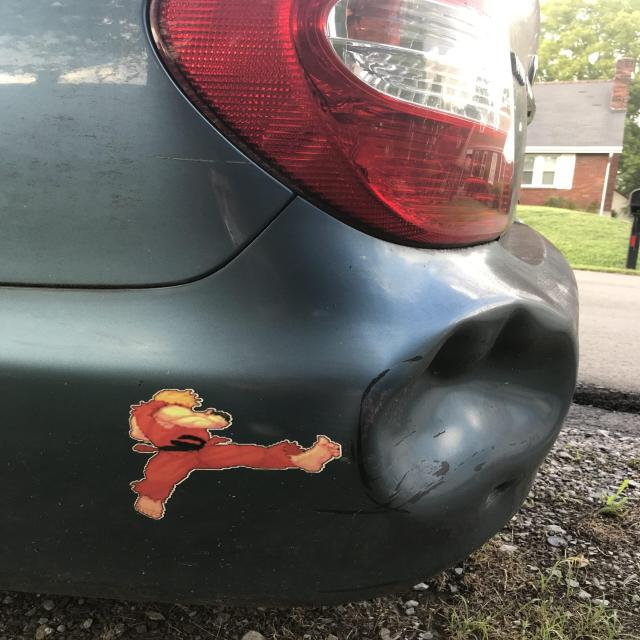dent: (363, 299, 580, 521)
scratch: (308, 353, 544, 517), (316, 579, 410, 595)
